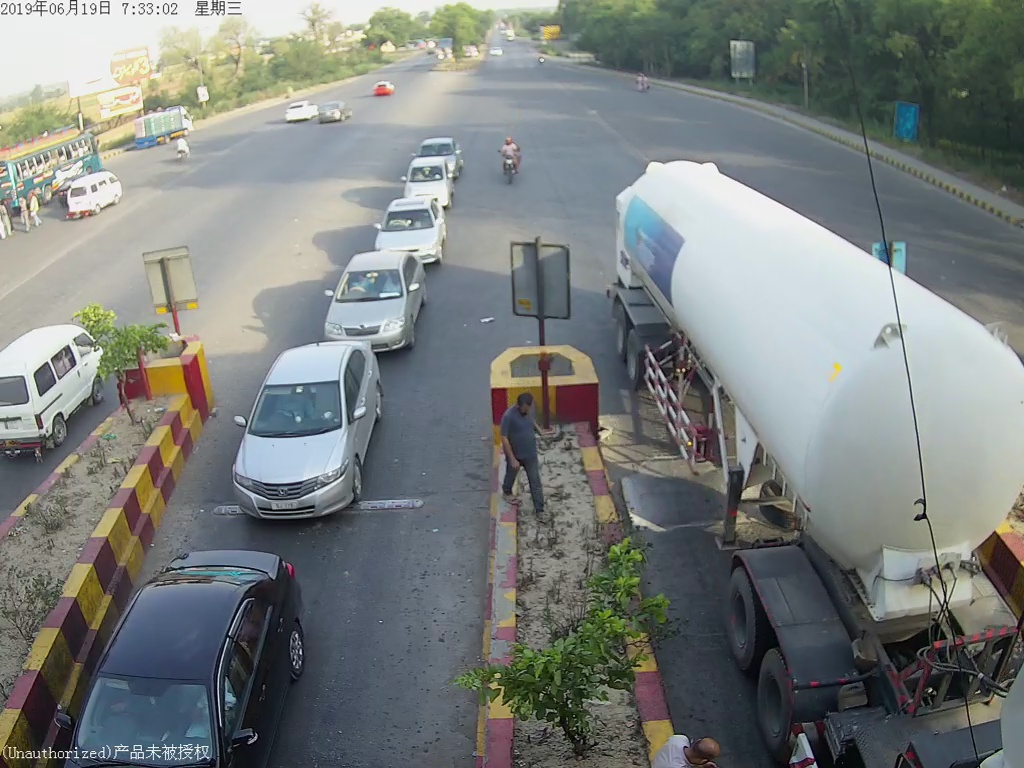Cat-1: (226, 344, 414, 517), (314, 252, 434, 349), (371, 196, 448, 256), (395, 159, 456, 200)
